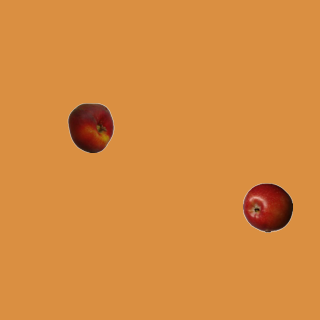Apple Braeburn: (242, 182, 292, 232)
Nectarine Flat: (65, 102, 115, 152)
